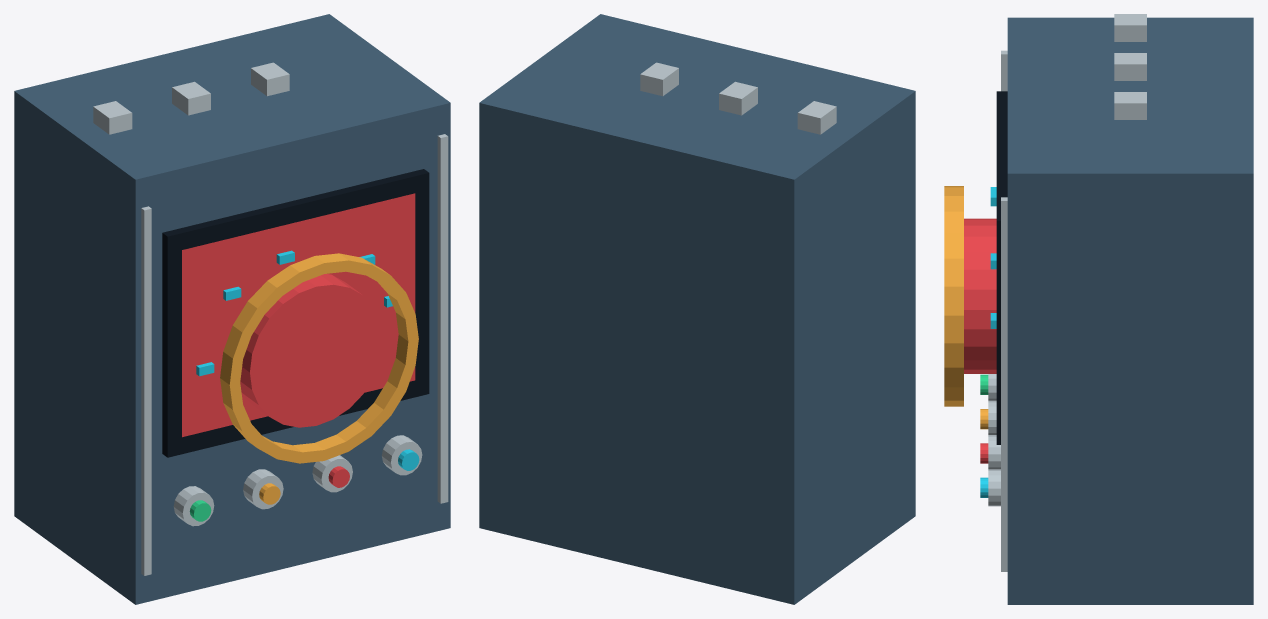
The model's file is 57_L78_EmergencyIsolationSafetyStation.fbx.
3 views of the same model, side by side, from view 1: azimuth 30°, elevation 25°; view 2: azimuth 150°, elevation 25°; view 3: azimuth 270°, elevation 25° (orthographic).
Parts seen in each view (by area): view 1: EmergencyIsolationSafetyStation; view 2: EmergencyIsolationSafetyStation; view 3: EmergencyIsolationSafetyStation.
Boxes of the visible parts, box(x1,y1,x2,y2) form: EmergencyIsolationSafetyStation: box(14, 14, 450, 604); EmergencyIsolationSafetyStation: box(479, 14, 915, 604); EmergencyIsolationSafetyStation: box(944, 14, 1253, 604).
Size of the model in its own units: 90 by 120 by 75.4.
